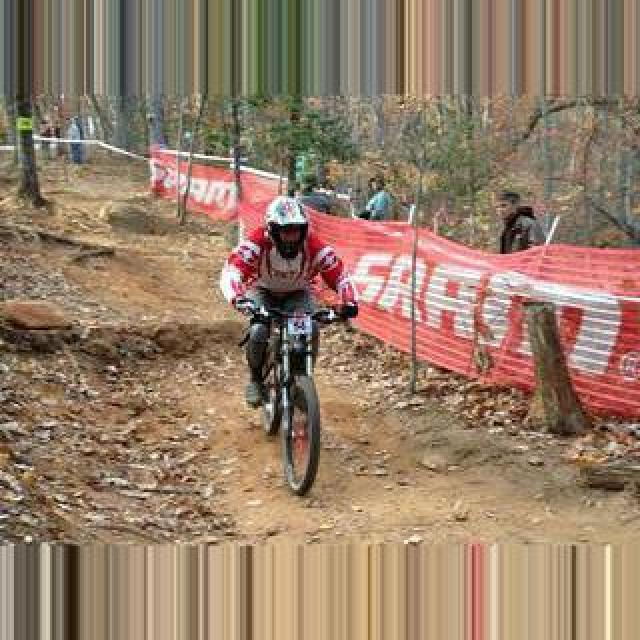MC-Bike: (222, 196, 356, 408), (494, 192, 544, 254), (360, 176, 398, 222)
Person: (232, 294, 354, 498)
